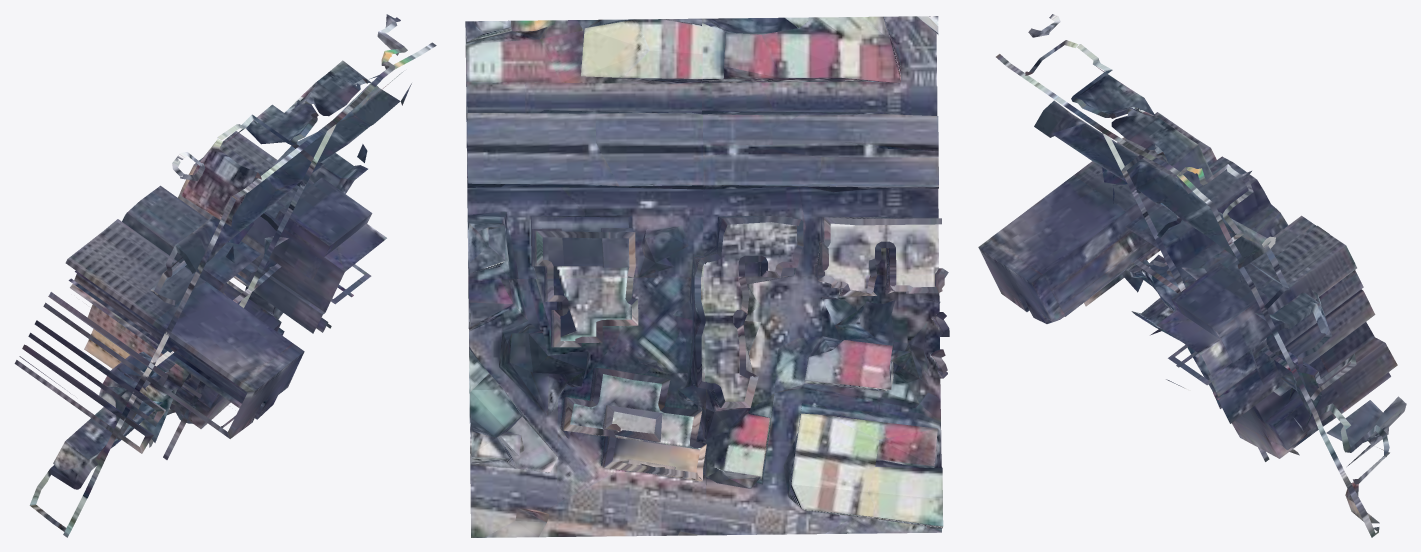
3 renders of one model, left to right at view 1: azimuth 30°, elevation 25°; view 2: azimuth 150°, elevation 25°; view 3: azimuth 270°, elevation 25°, orthographic. The views are drawn at different scales.
Size of the model in its own units: 163 by 149 by 144.
2 materials, 2 textured.
